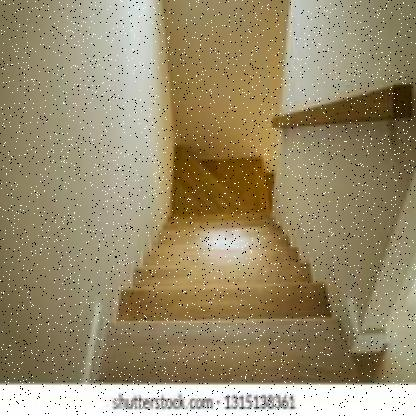stair_down: (106, 200, 331, 332)
